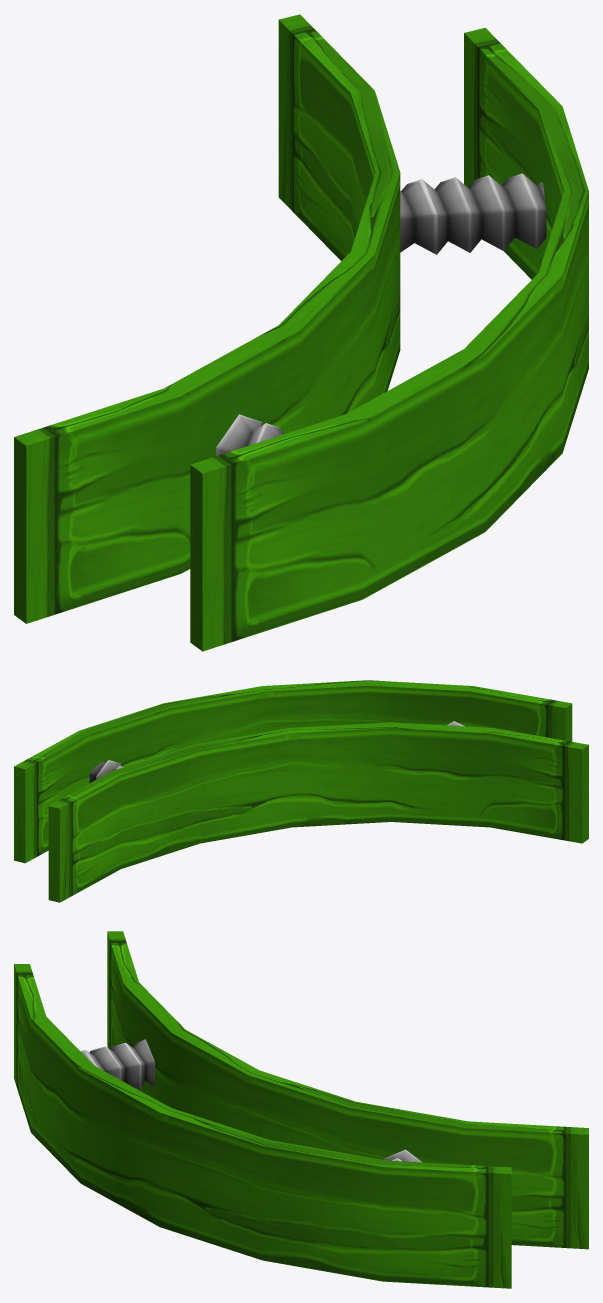
File: arched_fence_green_04.fbx
The picture shows the model from 3 angles, top to bottom: view 1: azimuth 30°, elevation 25°; view 2: azimuth 150°, elevation 25°; view 3: azimuth 270°, elevation 25°; orthographic projection. The views are drawn at different scales.
Parts seen in each view (by area): view 1: arched_fence_green_04; view 2: arched_fence_green_04; view 3: arched_fence_green_04.
Part boxes in pixels (x1,y1,x2,y2): arched_fence_green_04: [14, 14, 588, 651]; arched_fence_green_04: [14, 680, 588, 902]; arched_fence_green_04: [14, 931, 588, 1288].
Bounding box in the file's own units: 182 × 40 × 182.
